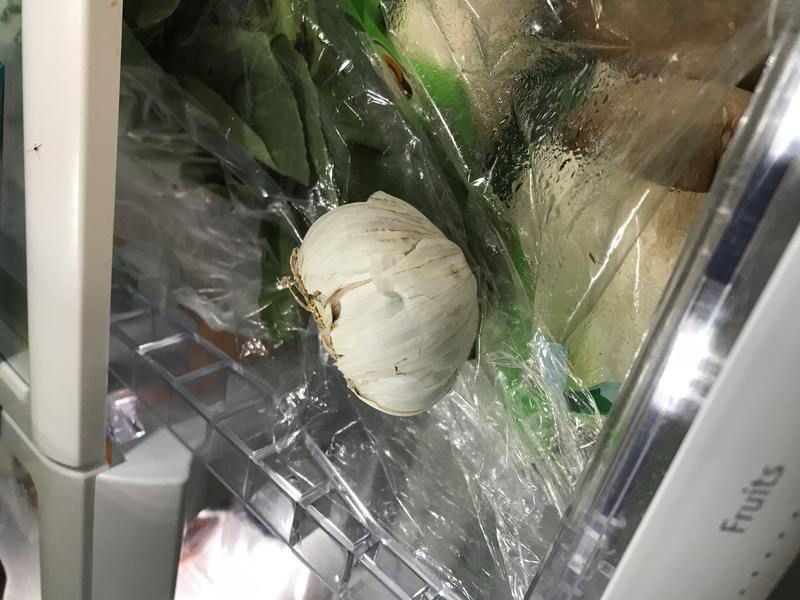garlic: (272, 180, 487, 423)
